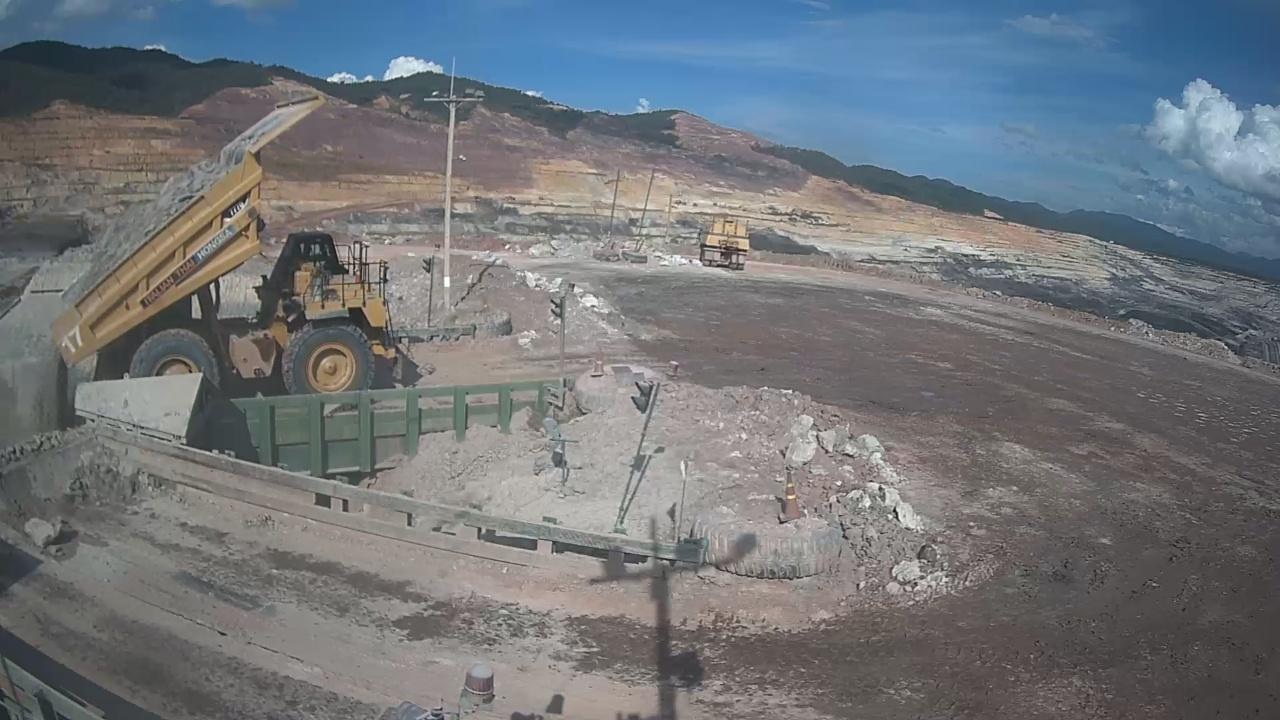company: (136, 224, 239, 317)
dumping_soil: (46, 90, 420, 420)
tail_number: (58, 323, 86, 358)
truck_size: (224, 197, 248, 223)
